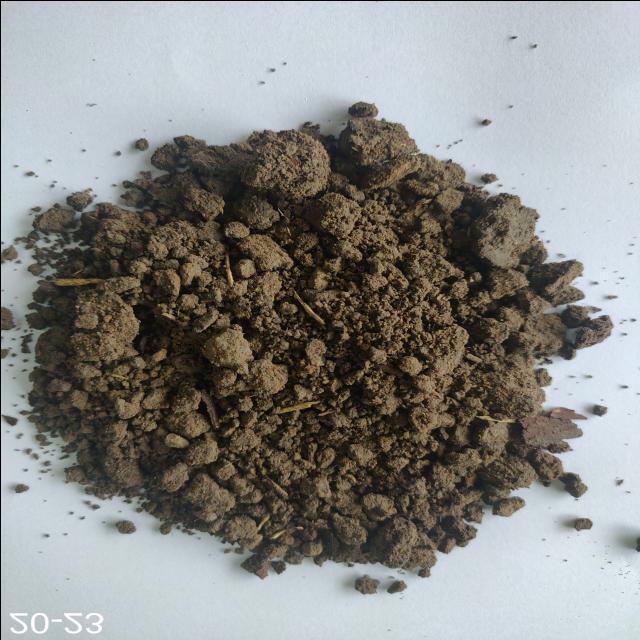soil: (128, 182, 536, 506)
